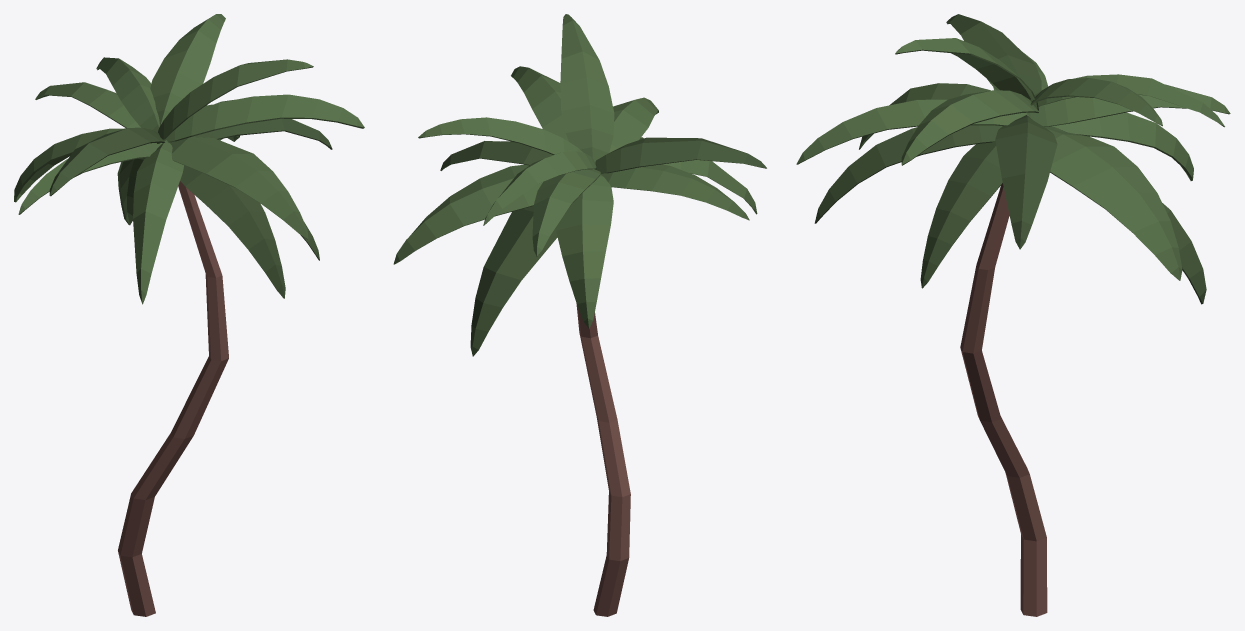
Rendered from palmtree_1.010_lev1.glb.
The picture shows the model from 3 angles, left to right: view 1: azimuth 30°, elevation 25°; view 2: azimuth 150°, elevation 25°; view 3: azimuth 270°, elevation 25°; orthographic projection. The views are drawn at different scales.
Parts seen in each view (by area): view 1: palmtree_1.010_lev1; view 2: palmtree_1.010_lev1; view 3: palmtree_1.010_lev1.
Boxes of the visible parts, box(x1,y1,x2,y2) form: palmtree_1.010_lev1: box(14, 14, 364, 616); palmtree_1.010_lev1: box(393, 14, 766, 616); palmtree_1.010_lev1: box(796, 14, 1230, 616).
Size of the model in its own units: 2.65 by 4.47 by 2.85.
